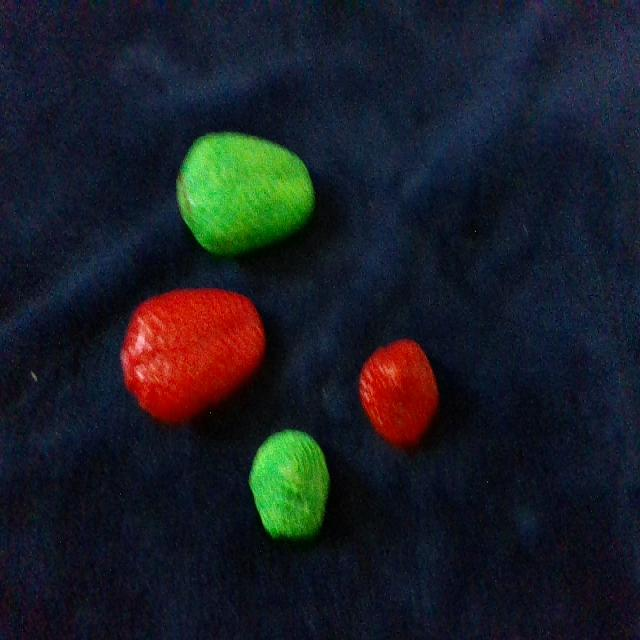chica_roja: (359, 340, 438, 444)
grande_roja: (121, 289, 265, 423)
verde: (177, 133, 314, 255), (249, 431, 329, 537)
